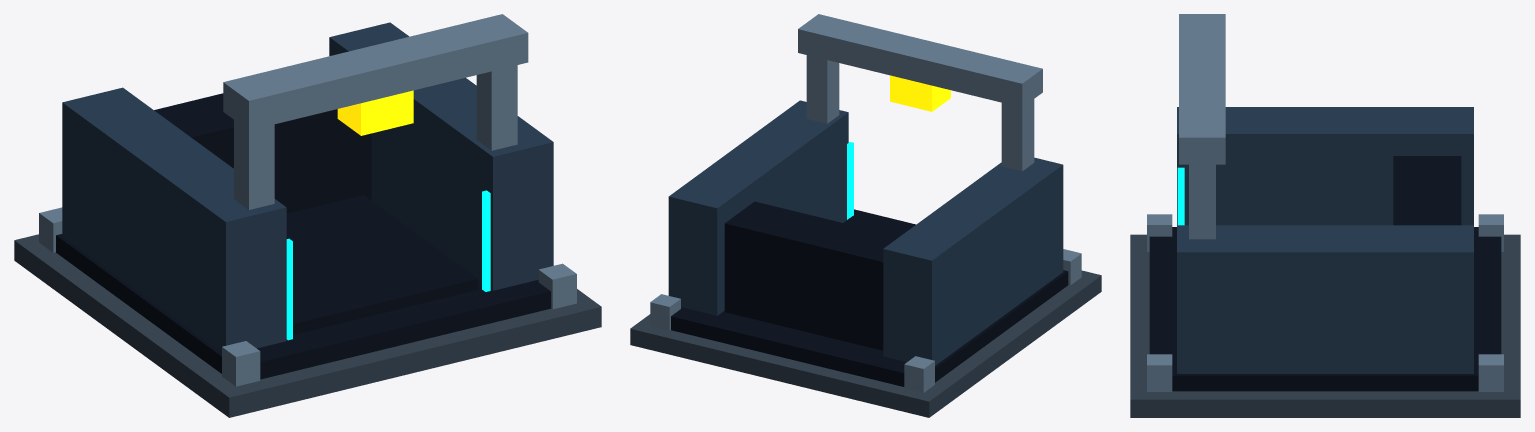
Rendered from fabricator_low.glb.
3 views of the same model, side by side, from view 1: azimuth 30°, elevation 25°; view 2: azimuth 150°, elevation 25°; view 3: azimuth 270°, elevation 25° (orthographic). The views are drawn at different scales.
Parts seen in each view (by area): view 1: Factory side pod, Factory side pod.001, Foundation, Conveyor, Gantry bridge, Undercarriage, Rear workshop, Gantry pillar, Gantry pillar.001, Manipulator carriage, Corner lock.001, Corner lock.003 (+3 smaller); view 2: Factory side pod, Rear workshop, Factory side pod.001, Foundation, Gantry bridge, Undercarriage, Gantry pillar, Gantry pillar.001, Manipulator carriage, Corner lock, Corner lock.002, Conveyor (+2 smaller); view 3: Factory side pod.001, Factory side pod, Foundation, Undercarriage, Gantry bridge, Rear workshop, Gantry pillar.001, Corner lock.002, Corner lock.003, Corner lock, Corner lock.001, Door guidance.
Boxes of the visible parts, bbox=[...] form: Factory side pod: bbox=[62, 87, 286, 352]; Factory side pod.001: bbox=[329, 22, 553, 290]; Foundation: bbox=[14, 234, 601, 417]; Conveyor: bbox=[286, 195, 478, 334]; Gantry bridge: bbox=[223, 14, 528, 130]; Undercarriage: bbox=[56, 234, 550, 379]; Rear workshop: bbox=[154, 93, 371, 213]; Gantry pillar: bbox=[234, 120, 274, 209]; Gantry pillar.001: bbox=[476, 65, 517, 150]; Manipulator carriage: bbox=[337, 90, 413, 135]; Corner lock.001: bbox=[222, 341, 260, 386]; Corner lock.003: bbox=[538, 263, 576, 309]; Factory side pod: bbox=[883, 157, 1063, 365]; Rear workshop: bbox=[724, 201, 899, 350]; Factory side pod.001: bbox=[668, 100, 848, 315]; Foundation: bbox=[630, 270, 1101, 417]; Gantry bridge: bbox=[798, 14, 1042, 107]; Undercarriage: bbox=[671, 209, 1068, 386]; Gantry pillar: bbox=[1001, 99, 1034, 171]; Gantry pillar.001: bbox=[806, 55, 839, 123]; Manipulator carriage: bbox=[890, 75, 950, 111]; Corner lock: bbox=[904, 356, 934, 392]; Corner lock.002: bbox=[650, 294, 680, 330]; Conveyor: bbox=[843, 215, 909, 236]; Factory side pod.001: bbox=[1177, 225, 1473, 373]; Factory side pod: bbox=[1177, 107, 1473, 225]; Foundation: bbox=[1130, 234, 1520, 417]; Undercarriage: bbox=[1149, 227, 1501, 391]; Gantry bridge: bbox=[1179, 14, 1225, 164]; Rear workshop: bbox=[1393, 156, 1461, 225]; Gantry pillar.001: bbox=[1189, 164, 1215, 239]; Corner lock.002: bbox=[1478, 354, 1503, 391]; Corner lock.003: bbox=[1147, 354, 1172, 391]; Corner lock: bbox=[1478, 214, 1503, 251]; Corner lock.001: bbox=[1147, 214, 1172, 251]; Door guidance: bbox=[1177, 167, 1184, 225].
Size of the model in its own units: 4.6 by 3.38 by 4.6.
